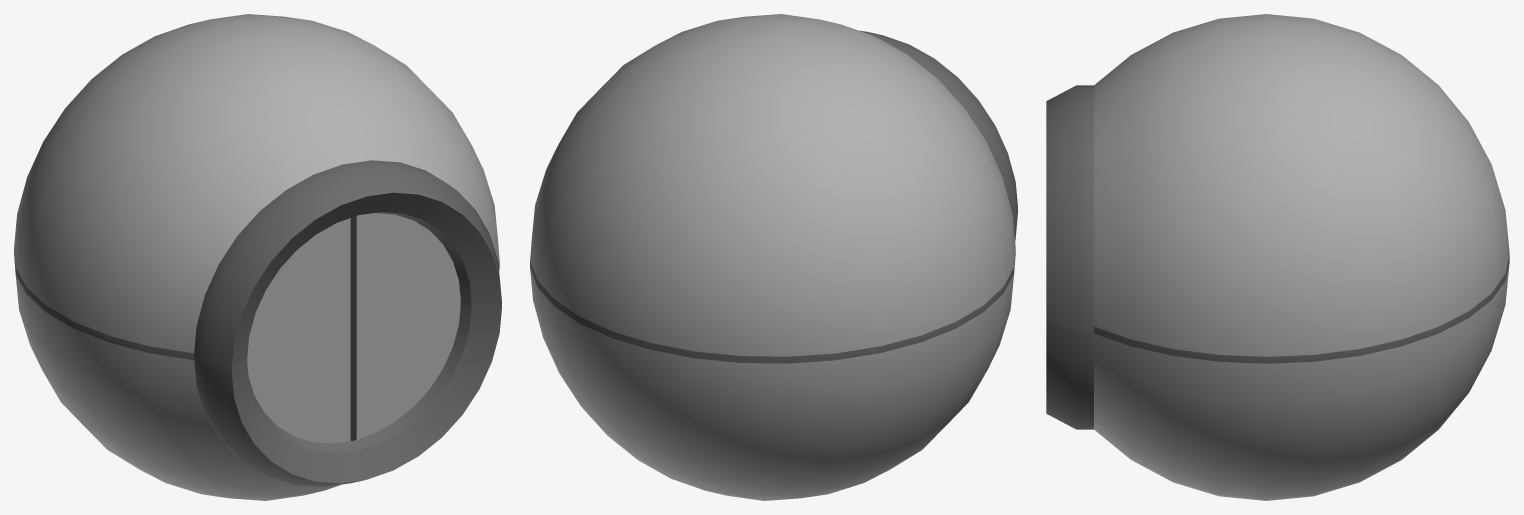
The model's file is house-single.glb.
The picture shows the model from 3 angles, left to right: view 1: azimuth 30°, elevation 25°; view 2: azimuth 150°, elevation 25°; view 3: azimuth 270°, elevation 25°; orthographic projection.
Parts seen in each view (by area): view 1: House_Single; view 2: House_Single; view 3: House_Single.
Boxes of the visible parts, x1,y1,x2,y2 form: House_Single: (14, 14, 501, 500); House_Single: (530, 14, 1017, 500); House_Single: (1046, 14, 1509, 500).
Bounding box in the file's own units: 3.99 × 4 × 3.8.
Materials: 1 (1 with a texture image).
